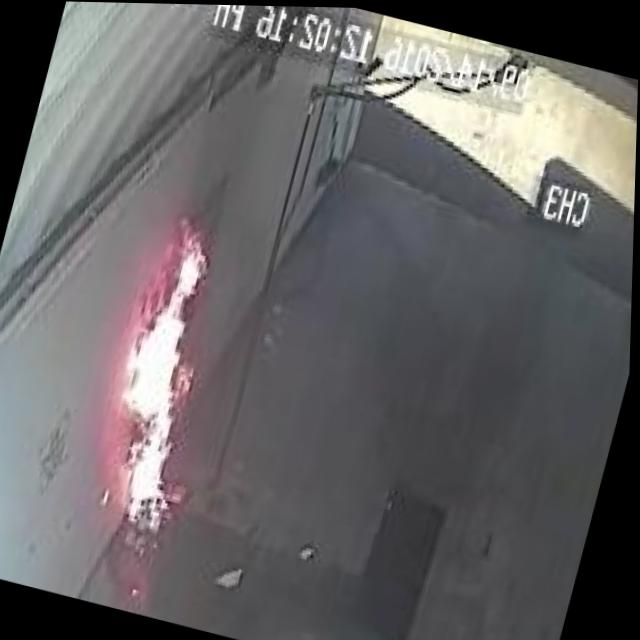fire: (79, 195, 248, 536)
